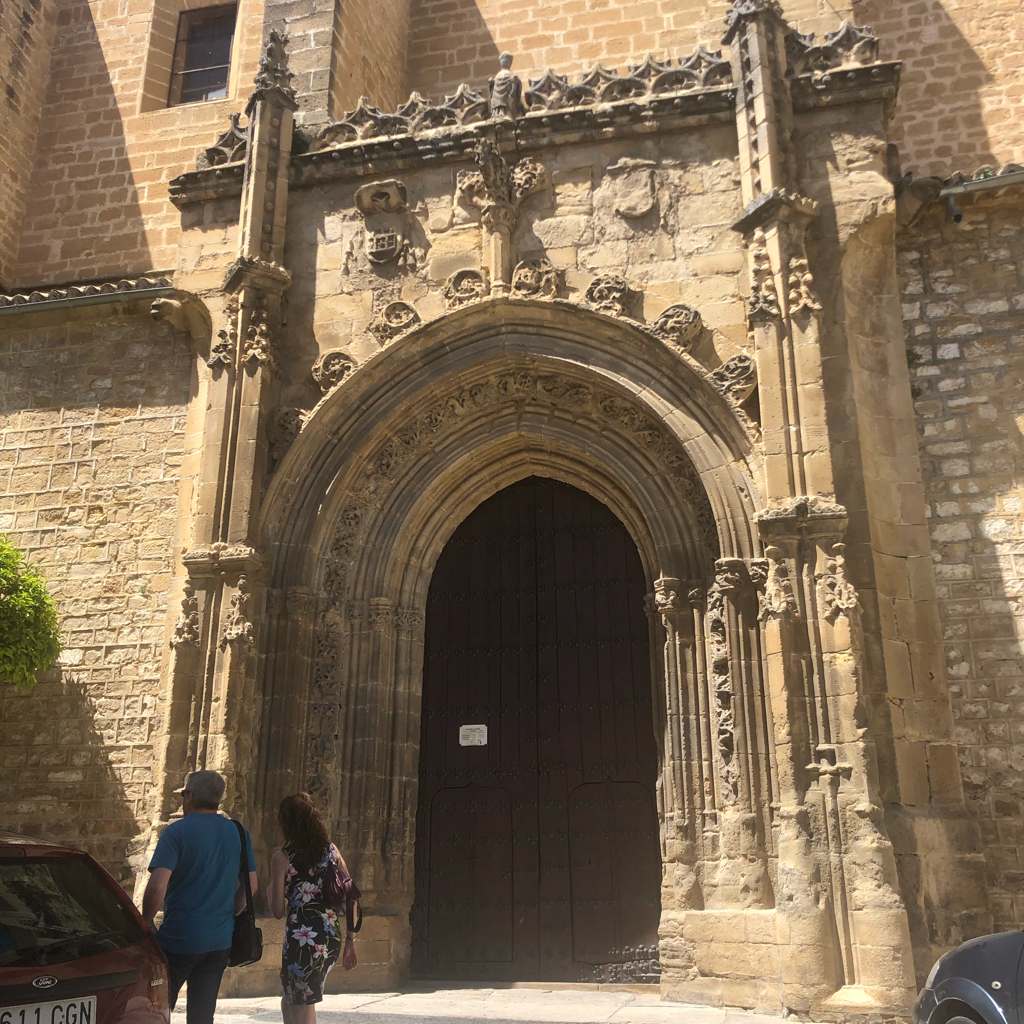arco-apuntado: (399, 435, 667, 621)
